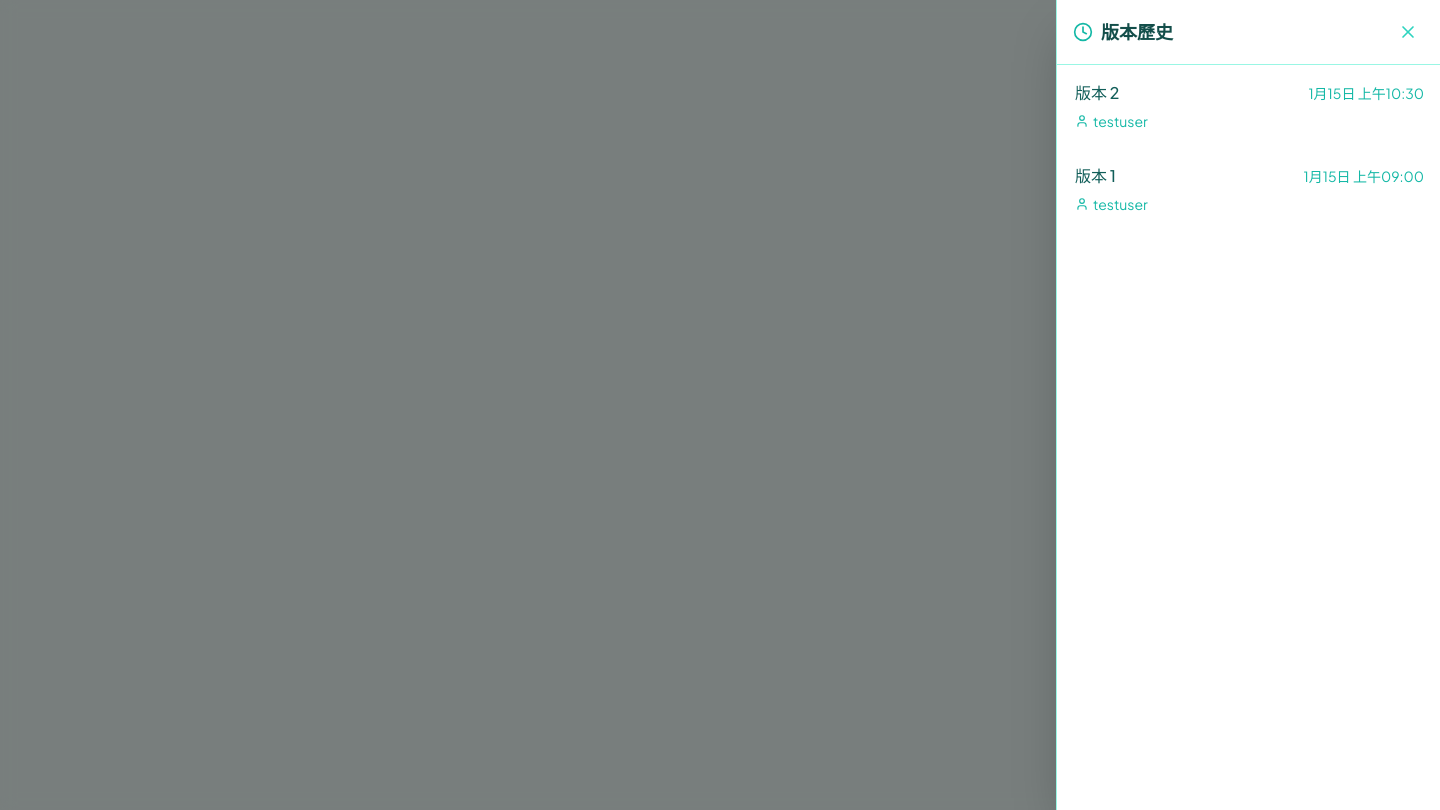
Test: VersionHistoryPanel › should warn about online collaborators in restore confirmation
This screenshot has width=1440, height=810.
What coordinates should you click on to do the following:
click the text "版本 2"
I would click on:
 (1097, 93)
Its box is [1075,81,1119,105].
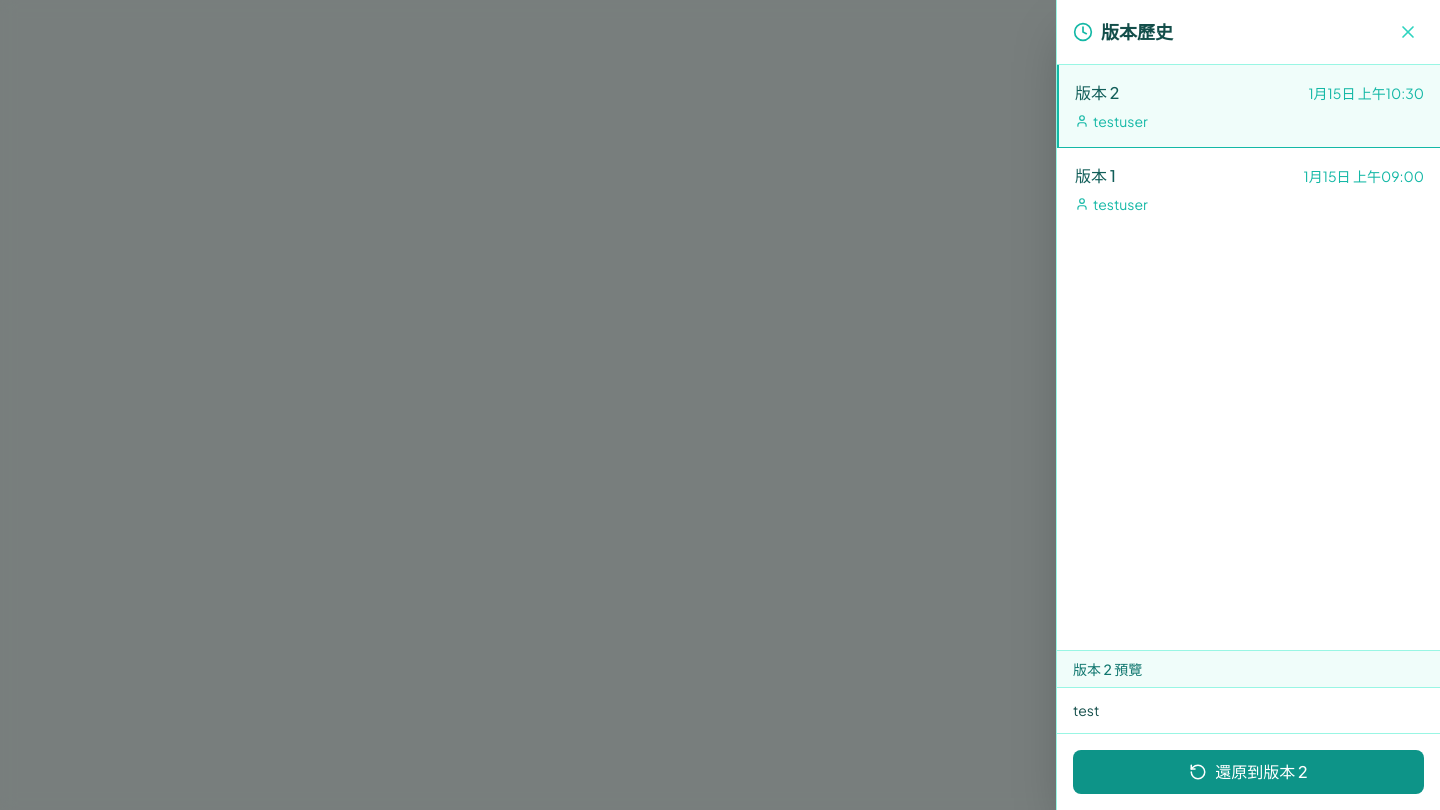
Result: the text "還原到版本 2" is shown at [1215,760,1308,784]
Note: 點擊還原按鈕 → 開啟 ConfirmDialog，確認訊息包含線上協作者警告
What coordinates should you click on to do the following:
click the button "還原到版本 2"
I would click on:
 (1248, 772)
Its box is [1073,750,1424,794].
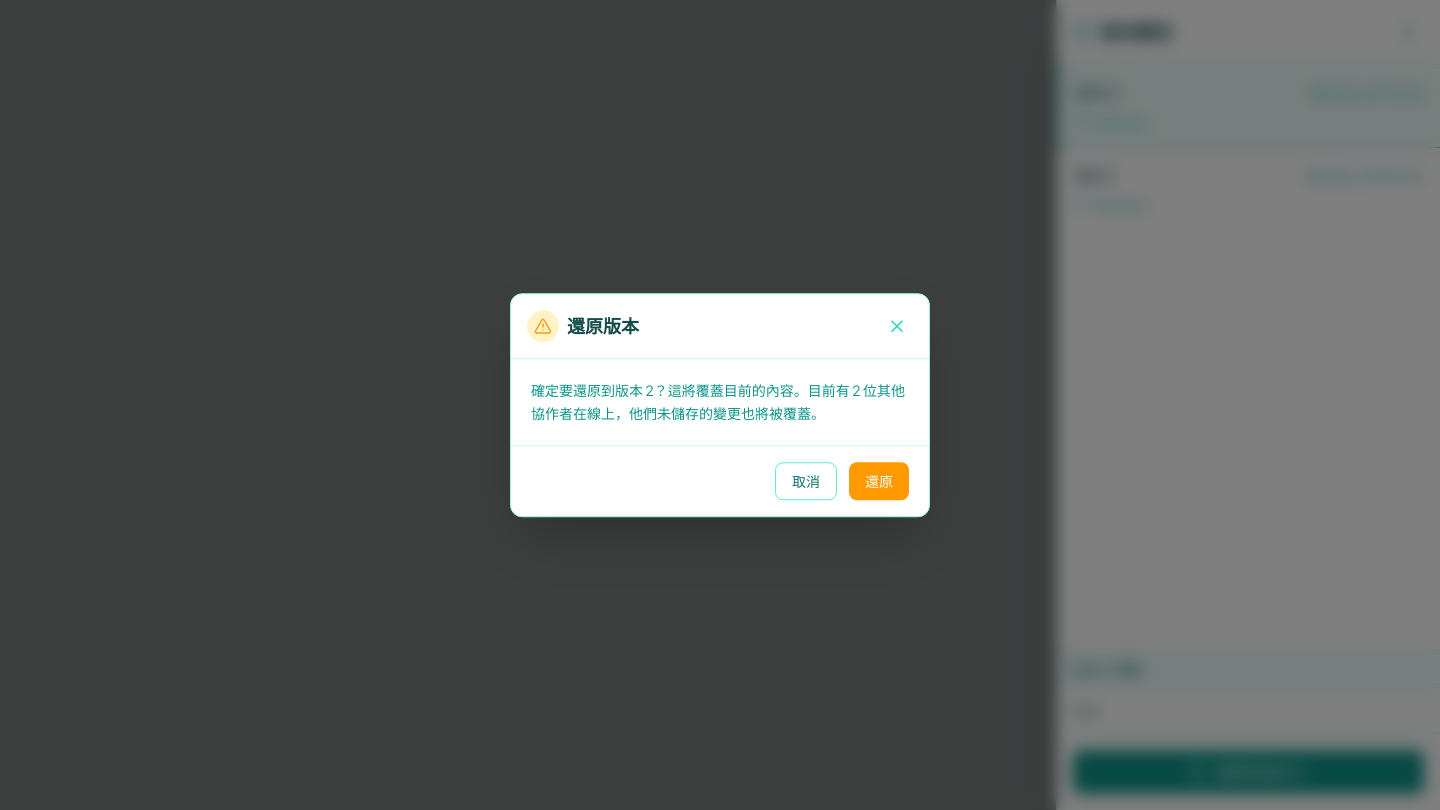
Result: the text "確定要還原到版本 2？這將覆蓋目前的內容。目前有 2 位其他協作者在線上，他們未儲存的變更也將被覆蓋。" is shown at [531,379,909,425]
